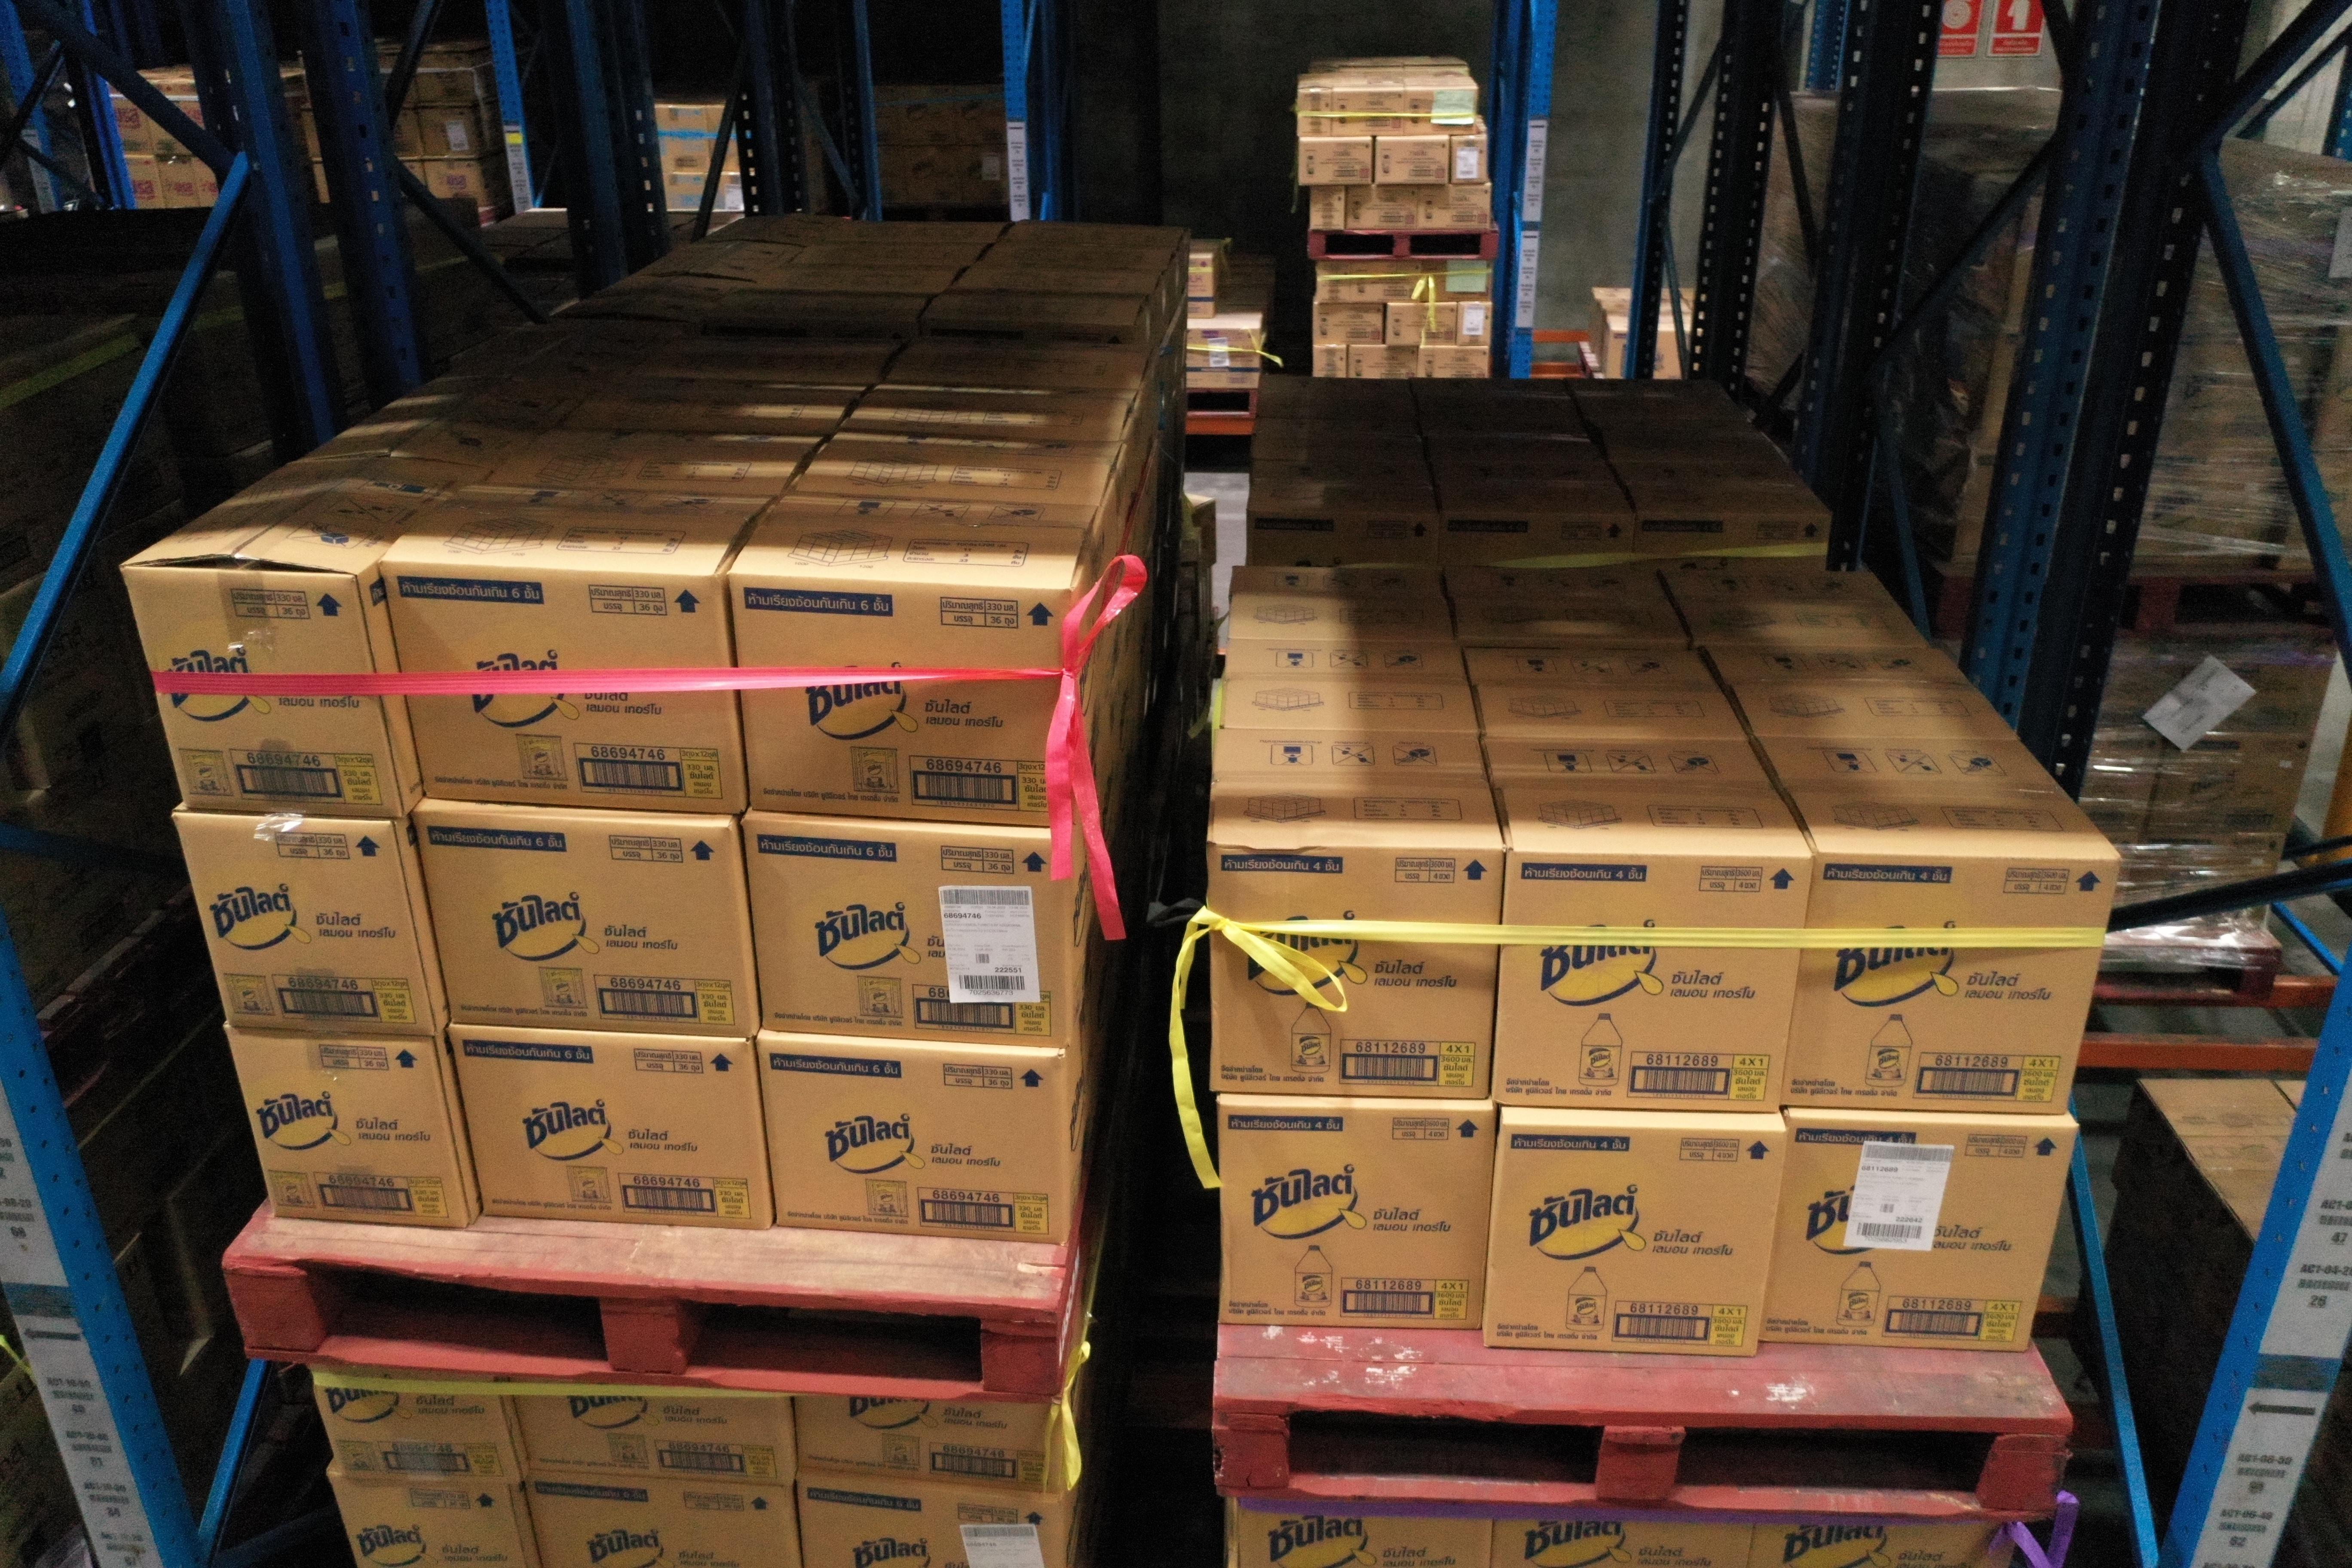-: (378, 563, 744, 812), (1781, 854, 2119, 1116), (724, 576, 1069, 831), (1491, 847, 1816, 1115), (1207, 840, 1503, 1102), (416, 808, 754, 1036), (1759, 1115, 2077, 1354), (742, 814, 1064, 1045), (121, 560, 406, 819), (1477, 1125, 1788, 1358), (446, 1022, 773, 1234), (1216, 1101, 1501, 1332), (758, 1038, 1069, 1246), (170, 810, 439, 1038), (226, 1024, 472, 1230), (506, 1379, 794, 1487), (794, 1398, 1064, 1507), (514, 1472, 801, 1568), (311, 1367, 523, 1489), (793, 1479, 1062, 1568), (327, 1472, 532, 1568), (1228, 1496, 1496, 1568), (1489, 1508, 1755, 1568), (1750, 1512, 2019, 1568)
